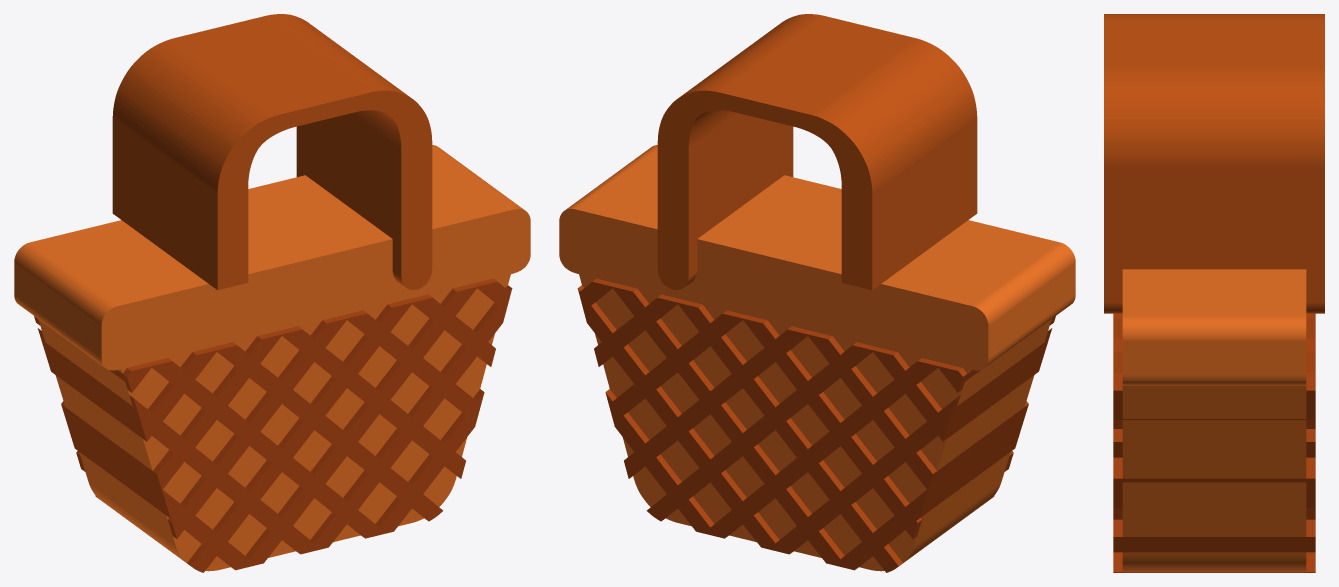
The picture shows the model from 3 angles, left to right: view 1: azimuth 30°, elevation 25°; view 2: azimuth 150°, elevation 25°; view 3: azimuth 270°, elevation 25°; orthographic projection. The views are drawn at different scales.
Parts seen in each view (by area): view 1: U+1F9FA_layer00_obj00, U+1F9FA_layer02_obj00, U+1F9FA_layer01_obj00; view 2: U+1F9FA_layer00_obj00, U+1F9FA_layer02_obj00, U+1F9FA_layer01_obj00; view 3: U+1F9FA_layer02_obj00, U+1F9FA_layer00_obj00, U+1F9FA_layer01_obj00.
Part boxes in pixels (x1=…): U+1F9FA_layer00_obj00: x1=14, y1=145, x2=530, y2=571; U+1F9FA_layer02_obj00: x1=112, y1=14, x2=432, y2=290; U+1F9FA_layer01_obj00: x1=34, y1=278, x2=512, y2=572; U+1F9FA_layer00_obj00: x1=559, y1=145, x2=1075, y2=571; U+1F9FA_layer02_obj00: x1=657, y1=14, x2=977, y2=290; U+1F9FA_layer01_obj00: x1=577, y1=278, x2=1055, y2=572; U+1F9FA_layer02_obj00: x1=1104, y1=14, x2=1324, y2=313; U+1F9FA_layer00_obj00: x1=1122, y1=269, x2=1306, y2=572; U+1F9FA_layer01_obj00: x1=1113, y1=313, x2=1315, y2=572.
Bounding box in the file's own units: 0.5678 × 0.5677 × 0.24.
